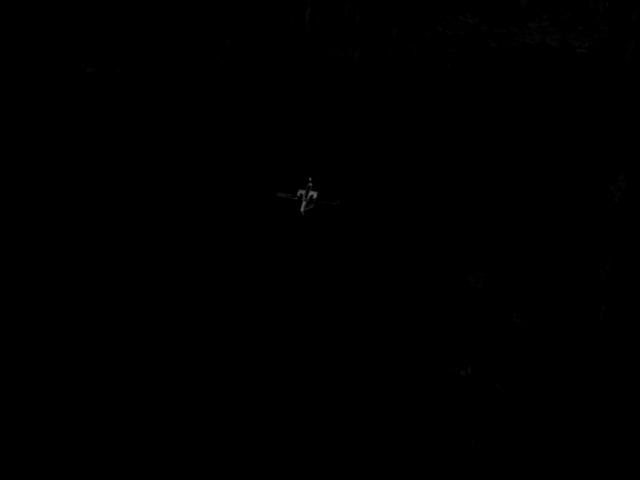hedef: (254, 168, 349, 234)
